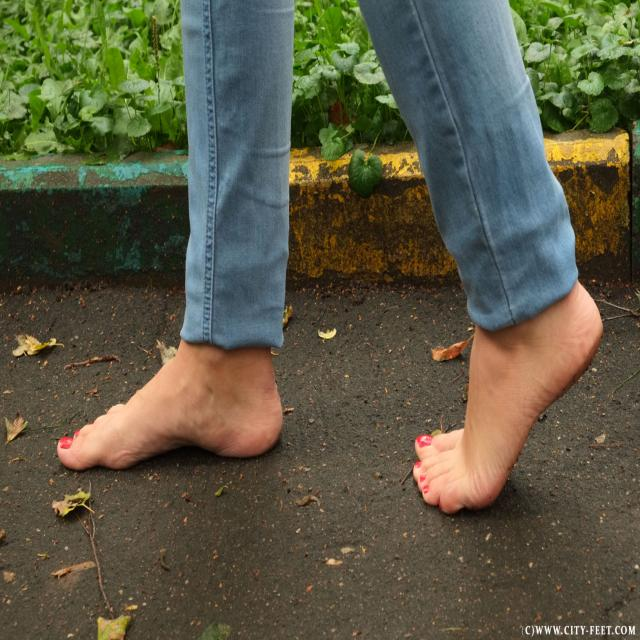Barefoots: (413, 280, 603, 514), (57, 357, 283, 471)
